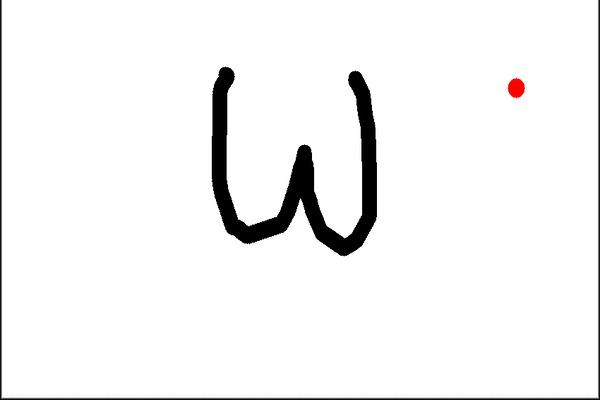w: (191, 53, 390, 265)
